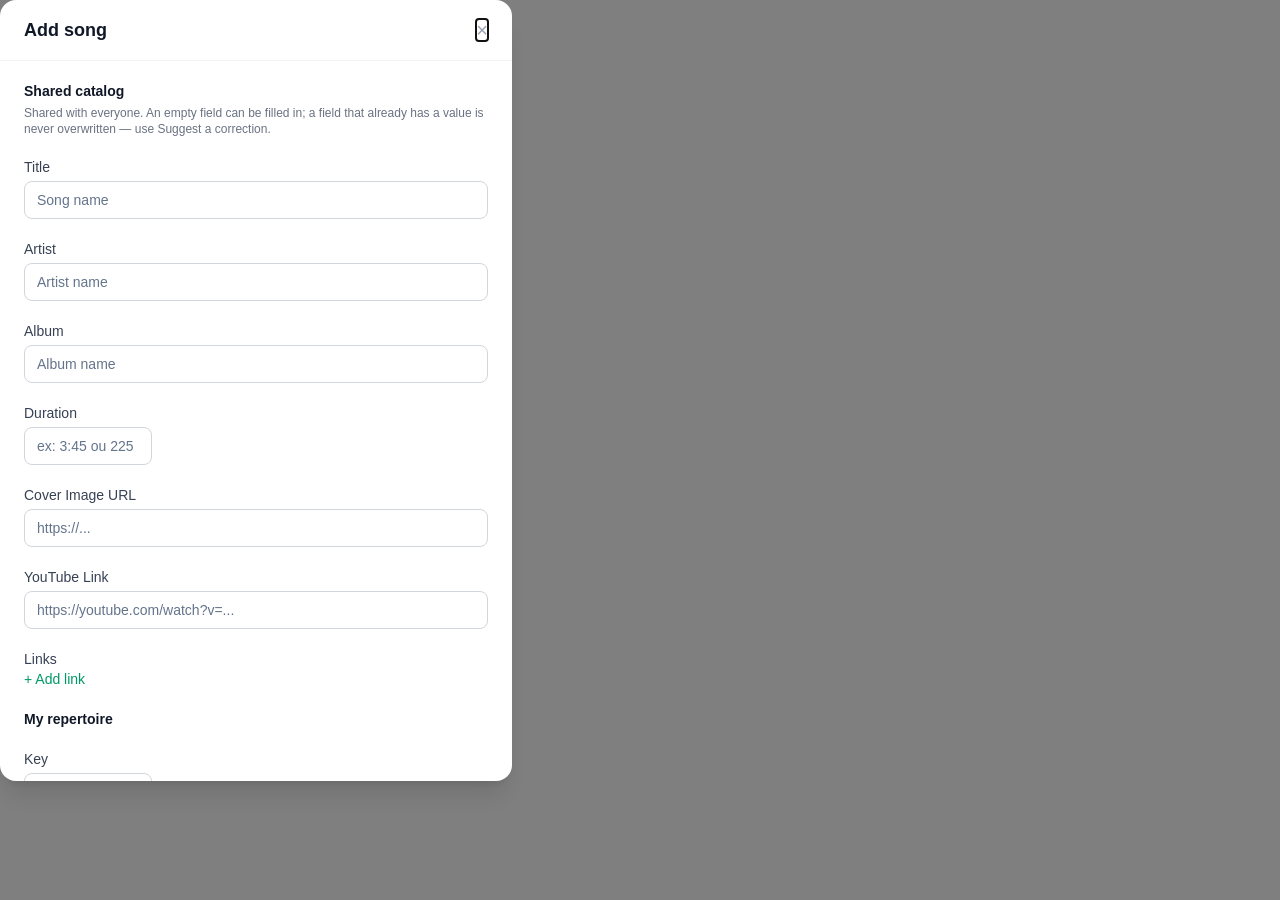
Test: SongForm calls its injected actions (RH-47) › shows the error message when an injected action rejects
The width and height of the screenshot is (1280, 900).
Type "Yellow" into the field labelled "Title" at (256, 200), box [24, 181, 488, 219]
(page scrolled)
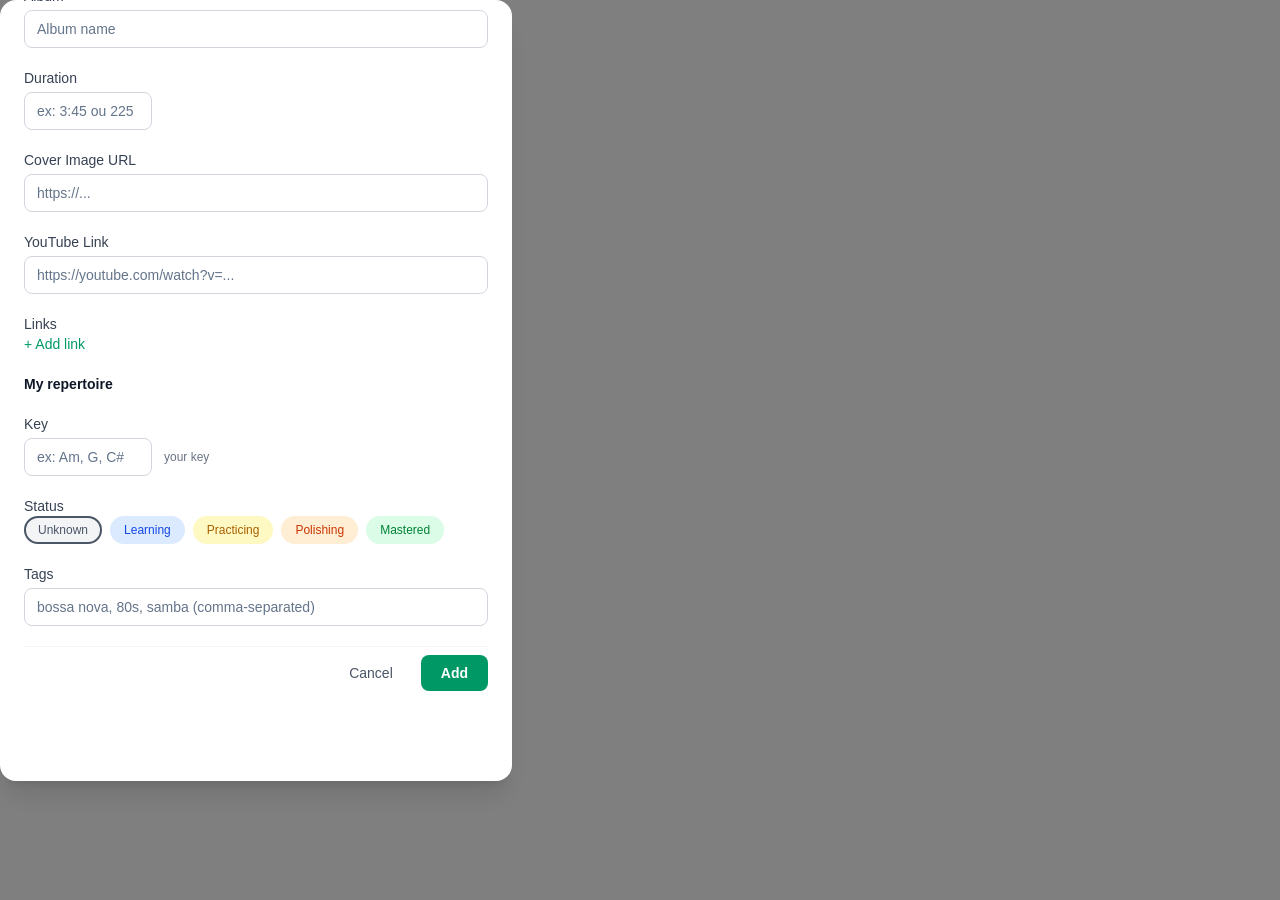
Click the button "Add" at (454, 673), box [421, 655, 488, 691]
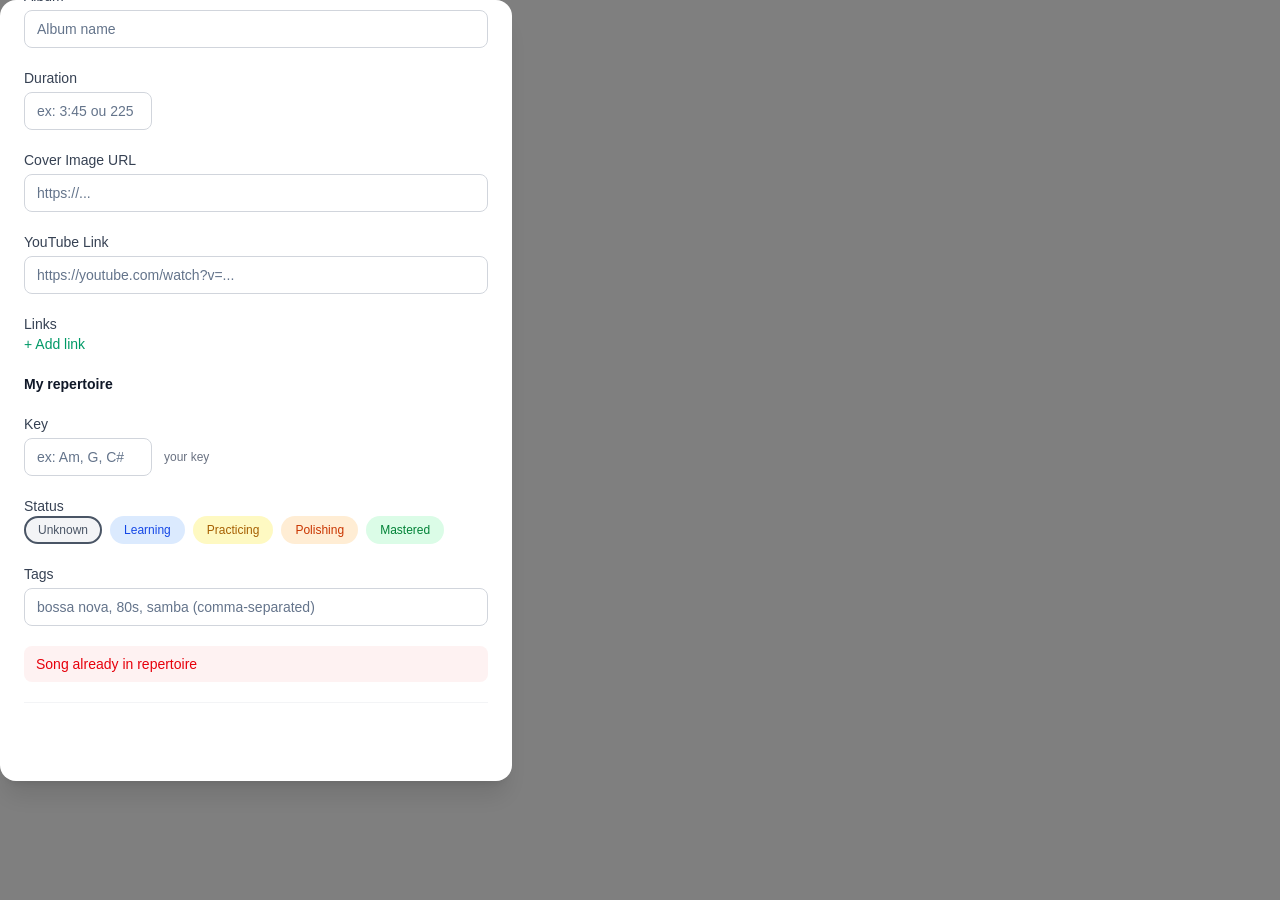
Check: the text "Song already in repertoire" is shown, box [24, 646, 488, 682]
